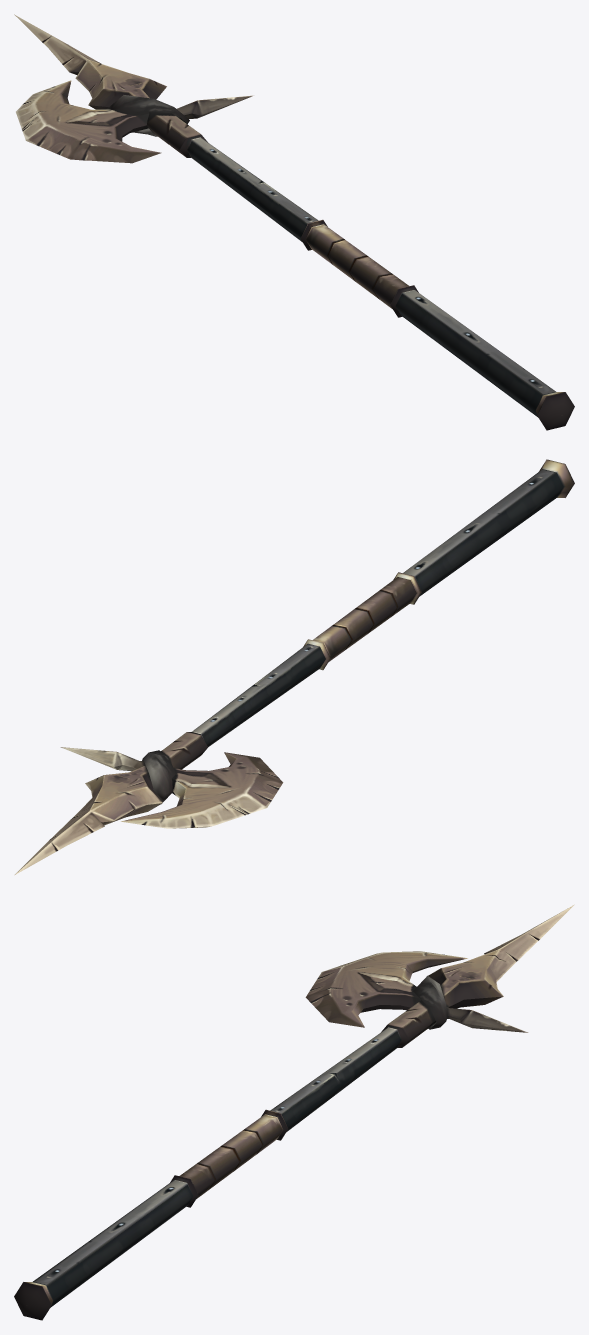
File: Spear06.fbx
The picture shows the model from 3 angles, top to bottom: view 1: azimuth 30°, elevation 25°; view 2: azimuth 150°, elevation 25°; view 3: azimuth 330°, elevation 25°; orthographic projection.
Parts seen in each view (by area): view 1: Spear06_el2, Spear06_el1; view 2: Spear06_el1, Spear06_el2; view 3: Spear06_el1, Spear06_el2.
Part boxes in pixels (<box>): Spear06_el2: <box>187,137,574,430</box>; Spear06_el1: <box>14,14,253,163</box>; Spear06_el1: <box>14,732,283,875</box>; Spear06_el2: <box>192,459,574,746</box>; Spear06_el1: <box>305,904,574,1047</box>; Spear06_el2: <box>14,1027,401,1320</box>.
Bounding box in the file's own units: 0.629 × 0.1007 × 2.74.
